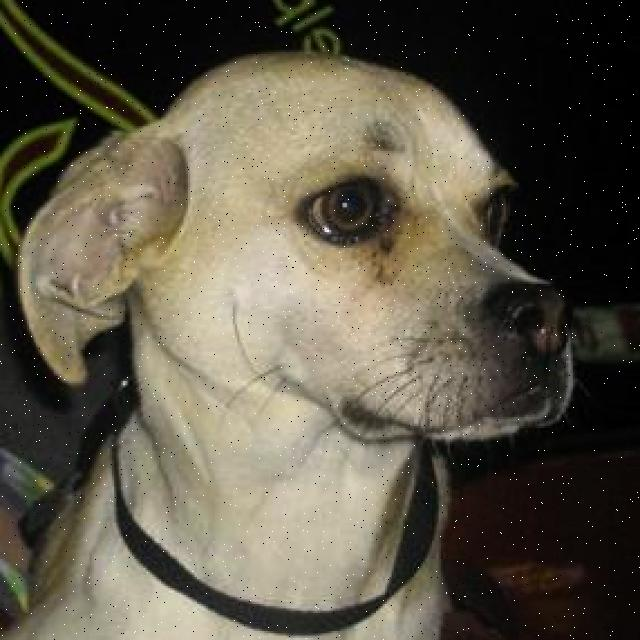Dog: (0, 29, 618, 460)
